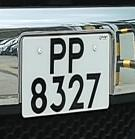2: (71, 71, 88, 110)
3: (50, 72, 69, 113)
7: (90, 68, 108, 107)
8: (28, 75, 50, 115)
P: (44, 35, 70, 76), (67, 35, 92, 73)
